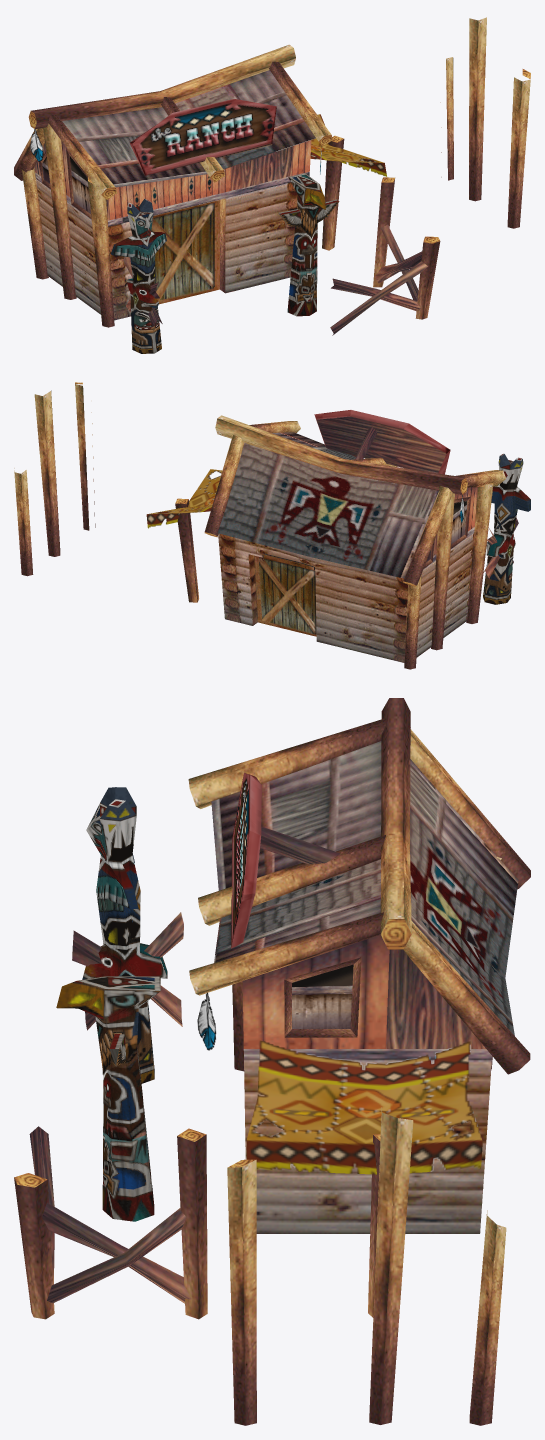
The picture shows the model from 3 angles, top to bottom: view 1: azimuth 30°, elevation 25°; view 2: azimuth 150°, elevation 25°; view 3: azimuth 270°, elevation 25°; orthographic projection. The views are drawn at different scales.
Visible parts, largest first — view 1: walls, sign, fence_post07, beams side, beams side2, beam top, totem, totem2, beams roof, awning, windows, fence_post09; view 2: walls, beams side, beams side2, beam top, beams roof, totem, fence_post07, sign, awning, windows, awning_trim; view 3: walls, beams roof, beams side2, awning, fence_post07, totem2, totem, beam top, awning_trim, sign, windows, fence_post09 (+1 smaller).
Part boxes in pixels (box(x1,y1,x2,y2)): walls: box(34, 70, 315, 320); sign: box(130, 99, 276, 175); fence_post07: box(322, 135, 440, 335); beams side: box(21, 123, 114, 327); beams side2: box(440, 17, 530, 228); beam top: box(28, 44, 295, 129); totem: box(111, 198, 166, 353); totem2: box(278, 173, 339, 316); beams roof: box(14, 61, 332, 199); awning: box(310, 114, 384, 162); windows: box(42, 156, 90, 213); fence_post09: box(123, 256, 162, 326); walls: box(217, 416, 477, 662); beams side: box(404, 483, 493, 669); beams side2: box(14, 382, 95, 576); beam top: box(215, 415, 467, 494); beams roof: box(204, 421, 506, 586); totem: box(483, 453, 530, 604); fence_post07: box(175, 498, 198, 602); sign: box(314, 410, 450, 474); awning: box(147, 469, 222, 514); windows: box(426, 500, 467, 562); awning_trim: box(146, 511, 179, 528); walls: box(211, 741, 518, 1233); beams roof: box(188, 718, 530, 1074); beams side2: box(227, 1107, 506, 1425); awning: box(247, 1040, 482, 1144); fence_post07: box(14, 1126, 380, 1319); totem2: box(56, 976, 160, 1221); totem: box(82, 787, 167, 1083); beam top: box(380, 698, 411, 949); awning_trim: box(246, 1140, 482, 1174); sign: box(231, 772, 261, 948); windows: box(292, 964, 353, 1028); fence_post09: box(72, 912, 183, 1030).
Size of the model in its own units: 940 by 409 by 514.
Materials: 15 (15 with a texture image).
